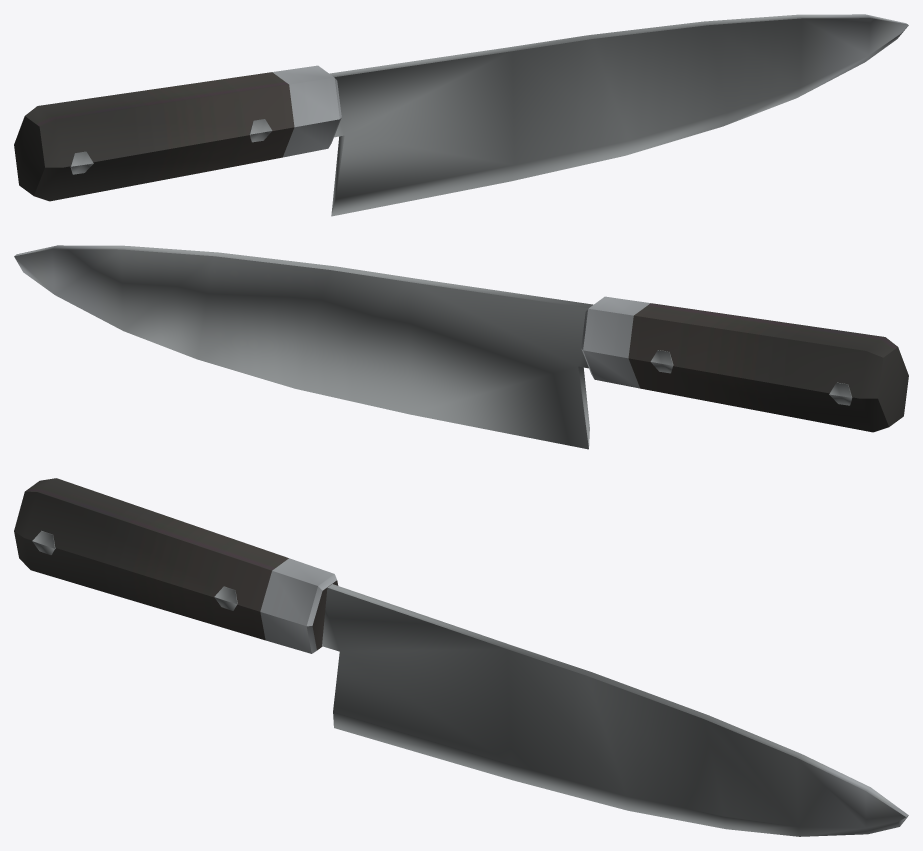
The model's file is bıcvak7.fbx.
The picture shows the model from 3 angles, top to bottom: view 1: azimuth 30°, elevation 25°; view 2: azimuth 150°, elevation 25°; view 3: azimuth 330°, elevation 25°; orthographic projection.
Parts seen in each view (by area): view 1: KitchenKnife; view 2: KitchenKnife; view 3: KitchenKnife.
Boxes of the visible parts, left/top/right/bottom form: KitchenKnife: left=14, top=14, right=908, bottom=216; KitchenKnife: left=14, top=245, right=908, bottom=449; KitchenKnife: left=14, top=478, right=908, bottom=836.
Size of the model in its own units: 68.48 by 13.71 by 5.21.
